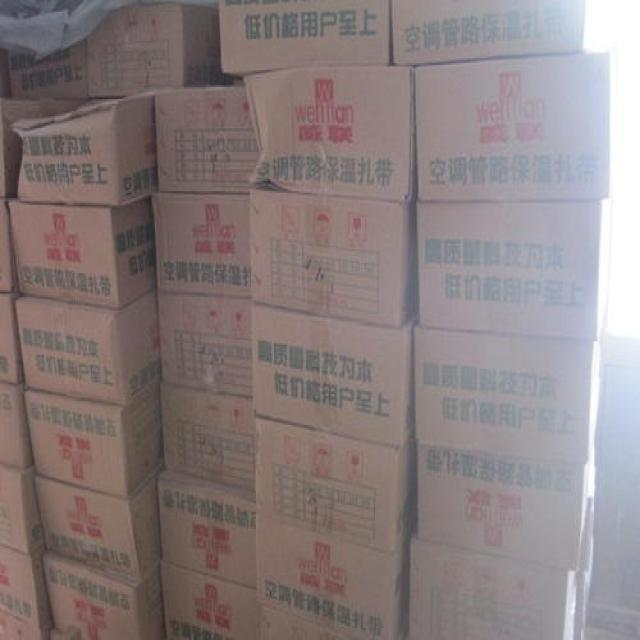box: (415, 52, 612, 202), (417, 197, 611, 341), (251, 299, 418, 451), (414, 327, 602, 462), (236, 65, 417, 202), (254, 413, 418, 555), (415, 442, 592, 572), (250, 191, 417, 325), (256, 524, 410, 637), (408, 533, 578, 635), (4, 195, 156, 308), (16, 289, 160, 407), (2, 97, 155, 208), (25, 379, 164, 501), (82, 2, 235, 97), (33, 471, 161, 576), (157, 463, 257, 590), (390, 1, 586, 65), (217, 2, 390, 72), (161, 379, 256, 504), (43, 550, 168, 638), (154, 86, 258, 188), (156, 289, 252, 397), (154, 191, 251, 297), (161, 559, 259, 638), (1, 545, 55, 638), (6, 40, 89, 97), (0, 464, 45, 554), (258, 602, 340, 638), (2, 379, 33, 468), (1, 291, 25, 384), (579, 504, 594, 634), (0, 200, 19, 292)
